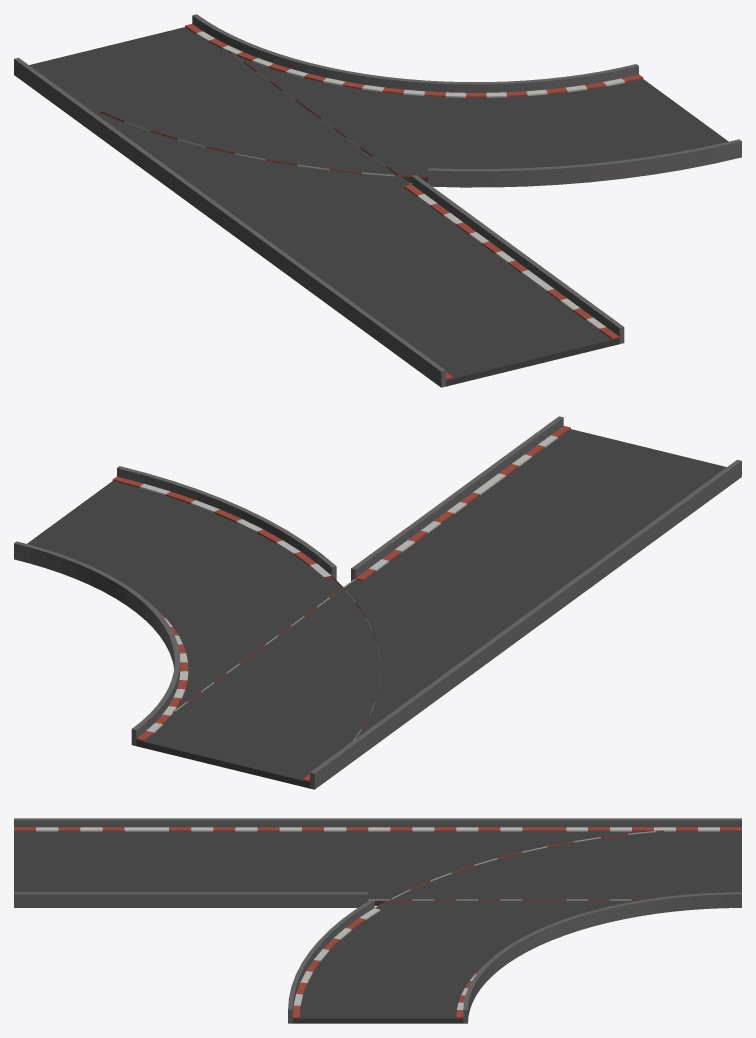
Rendered from tp-split-small-a.glb.
3 renders of one model, top to bottom at view 1: azimuth 30°, elevation 25°; view 2: azimuth 150°, elevation 25°; view 3: azimuth 270°, elevation 25°, orthographic. The views are drawn at different scales.
Visible parts, largest first — view 1: tp-split-small-a; view 2: tp-split-small-a; view 3: tp-split-small-a.
Part boxes in pixels (<box>): tp-split-small-a: <box>14,14,741,387</box>; tp-split-small-a: <box>14,416,741,789</box>; tp-split-small-a: <box>14,818,741,1023</box>.
Size of what is drawn, in the model's own units: 38.92 by 1.3 by 62.42.
Materials: 1 (1 with a texture image).
